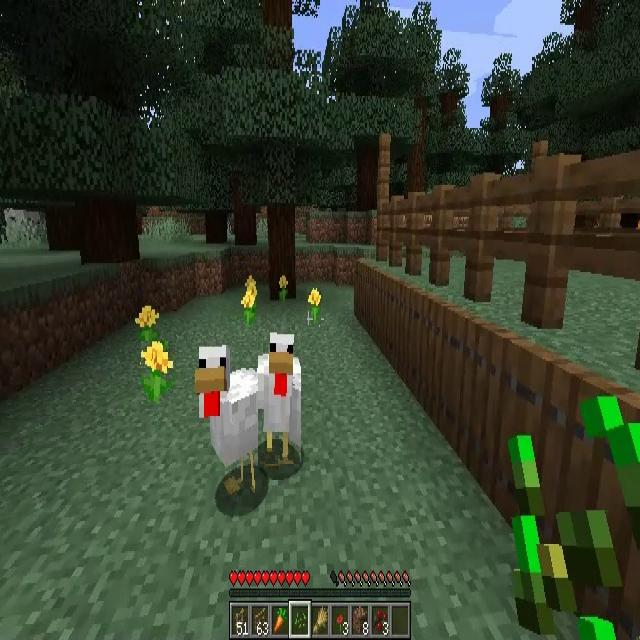duck: (196, 343, 268, 494), (258, 332, 301, 464)
flower: (141, 341, 173, 404), (135, 304, 159, 348), (242, 278, 256, 326), (307, 287, 321, 325), (279, 275, 288, 302)
